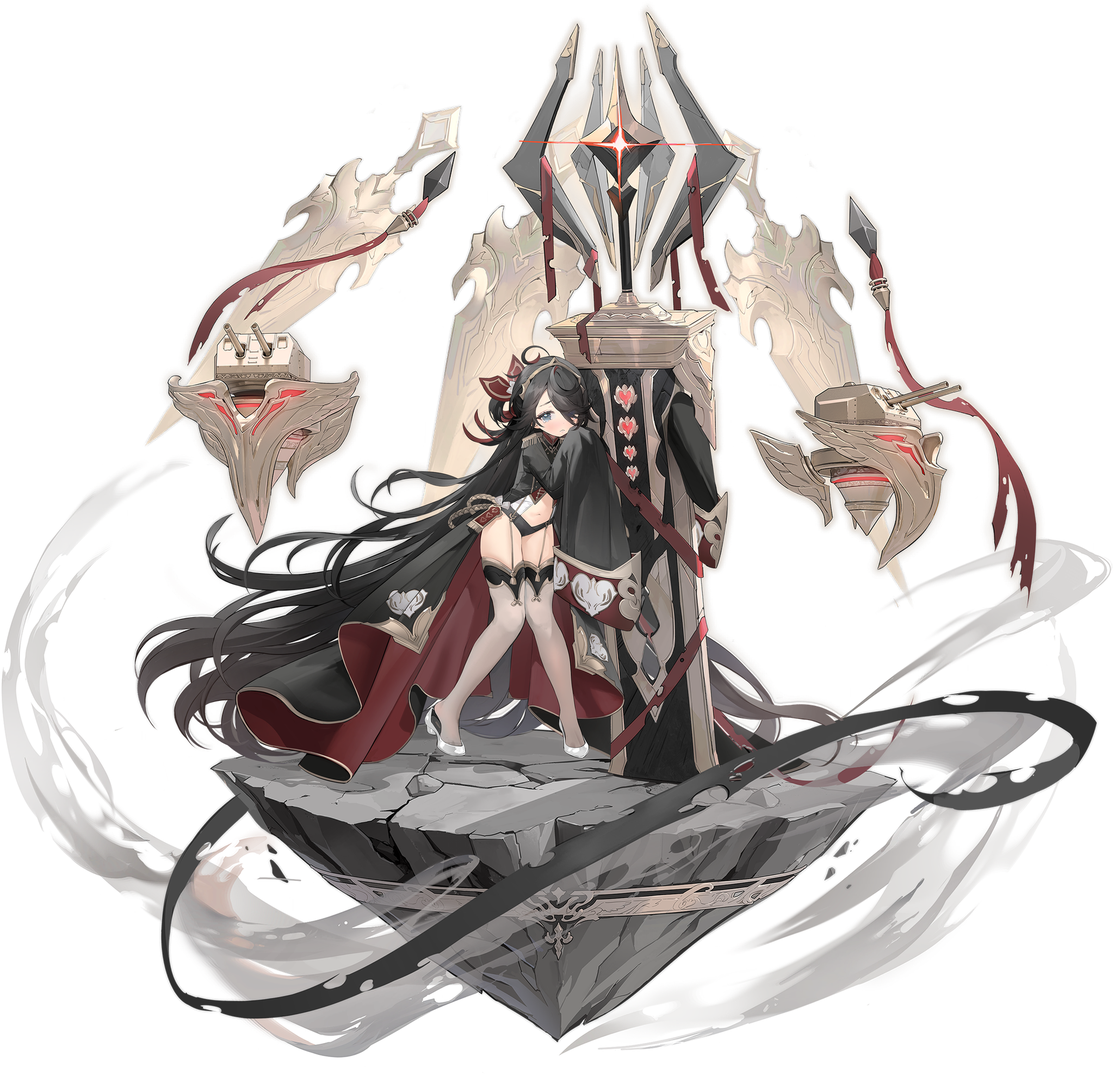person: (345, 325, 657, 814)
